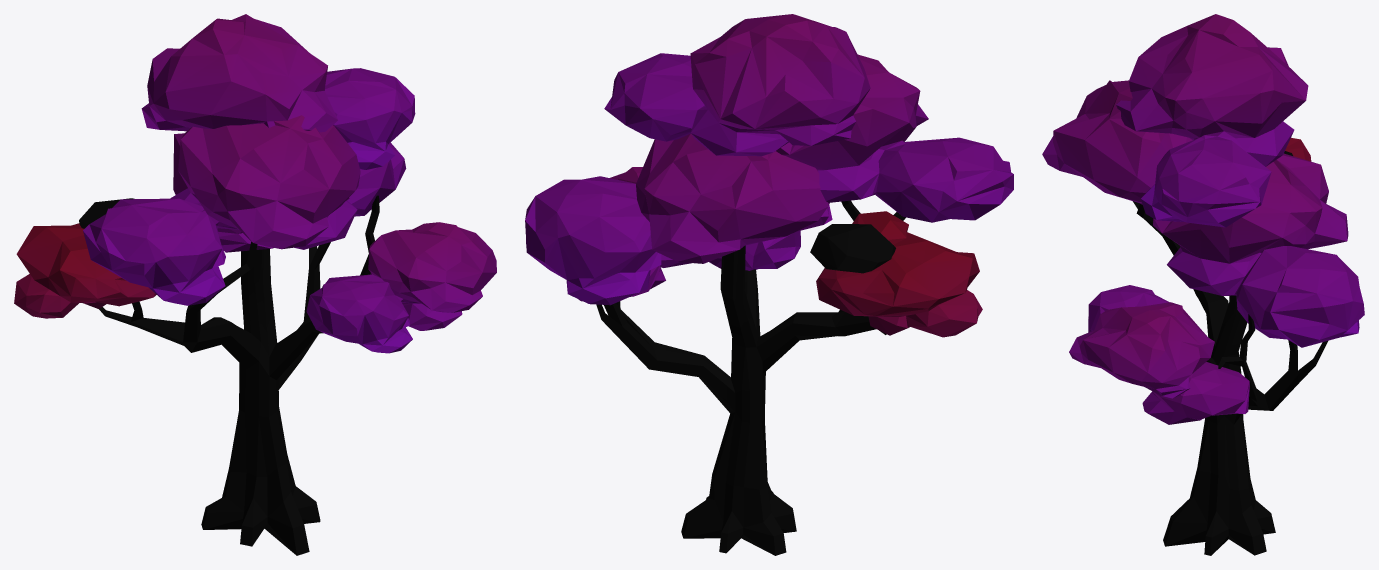
File: SM_Env_Tree_Large_01.glb
3 views of the same model, side by side, from view 1: azimuth 30°, elevation 25°; view 2: azimuth 150°, elevation 25°; view 3: azimuth 270°, elevation 25° (orthographic). The views are drawn at different scales.
Visible parts, largest first — view 1: SM_Env_Tree_Large_01; view 2: SM_Env_Tree_Large_01; view 3: SM_Env_Tree_Large_01.
Part boxes in pixels (<box>): SM_Env_Tree_Large_01: <box>14,14,496,555</box>; SM_Env_Tree_Large_01: <box>525,14,1013,555</box>; SM_Env_Tree_Large_01: <box>1042,14,1364,555</box>.
Bounding box in the file's own units: 14.53 × 16.89 × 9.88.
